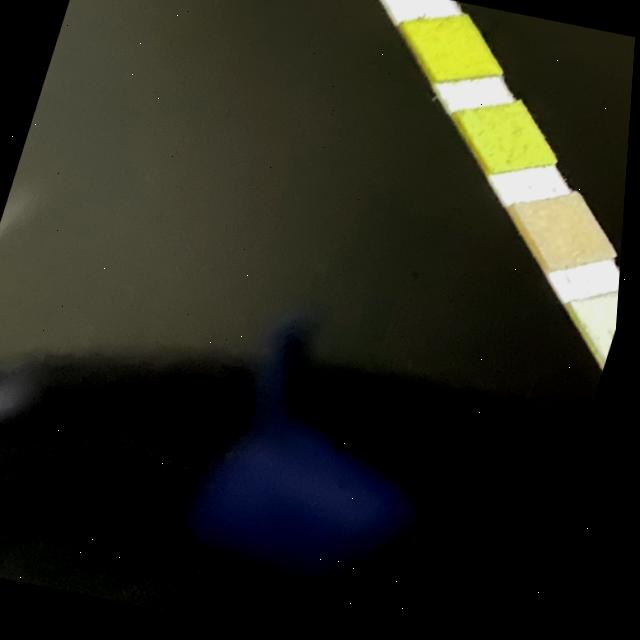Bilirubin: (594, 309, 622, 349)
Blood: (421, 29, 483, 75)
Ketone: (535, 214, 599, 262)
SpGravity: (475, 118, 543, 166)
